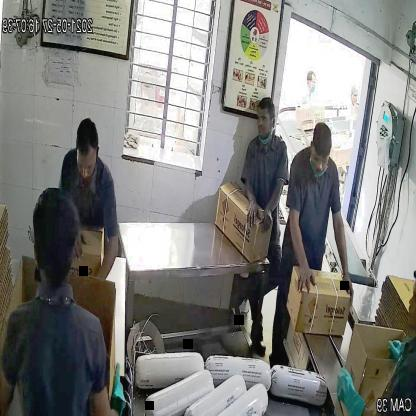no_goggles: (306, 148, 332, 171)
